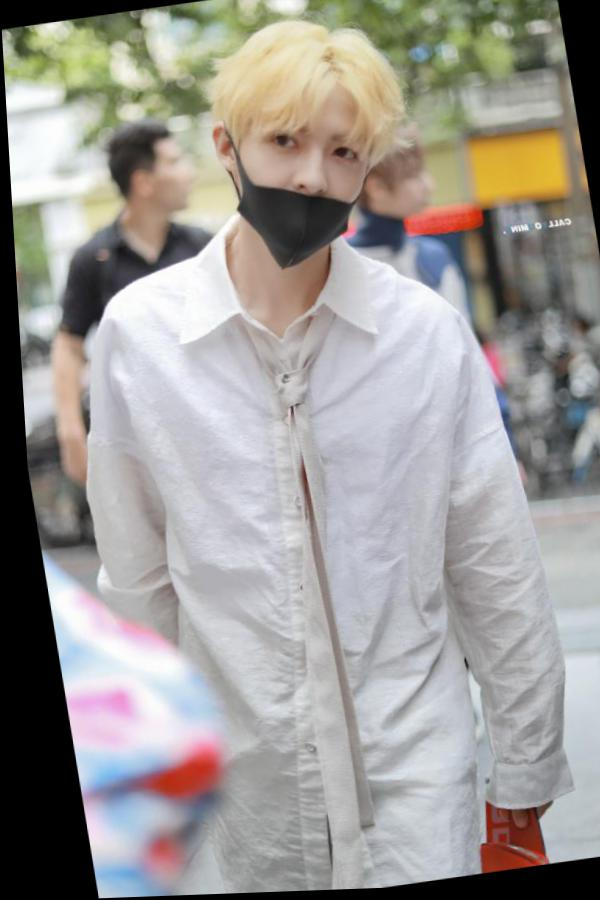NONE: (143, 149, 195, 217), (391, 160, 437, 220)
WRONG: (228, 119, 383, 267)
